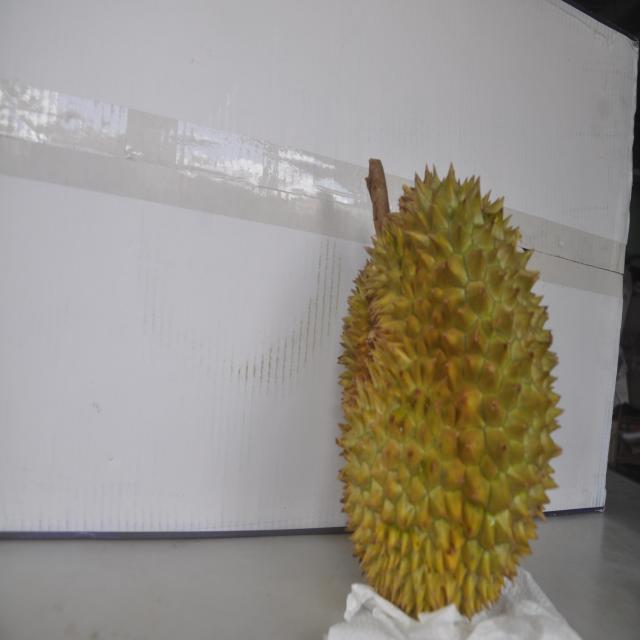mature: (336, 161, 565, 618)
